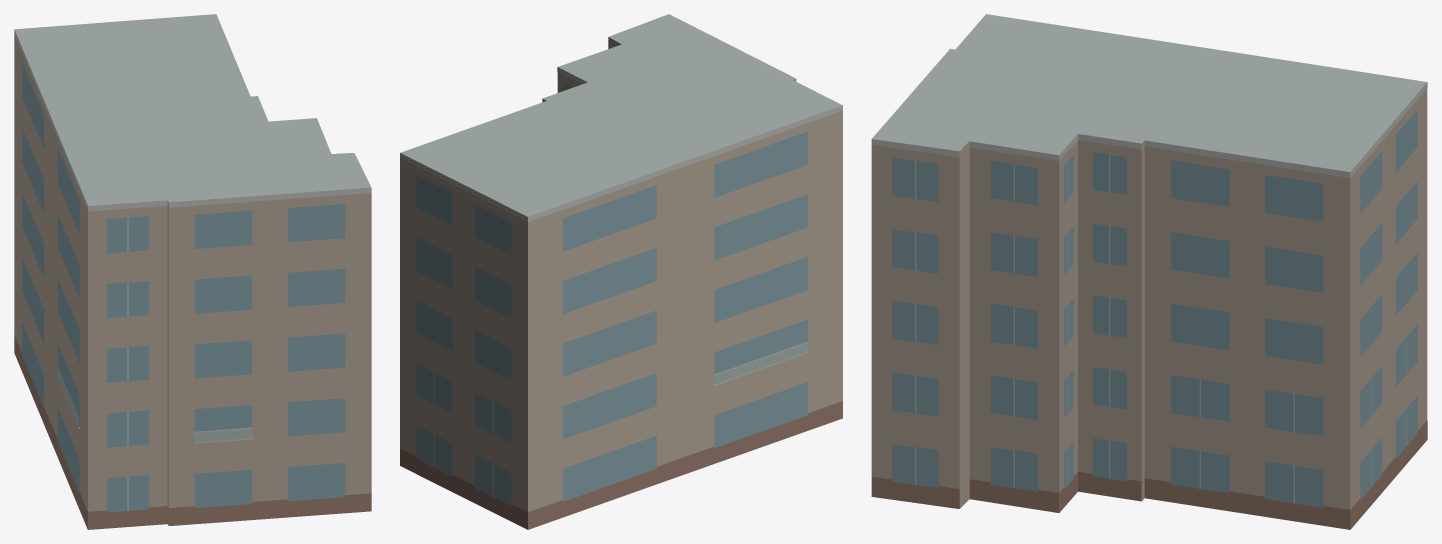
File: survey-upis-32706240.glb
The picture shows the model from 3 angles, left to right: view 1: azimuth 30°, elevation 25°; view 2: azimuth 150°, elevation 25°; view 3: azimuth 270°, elevation 25°; orthographic projection. The views are drawn at different scales.
Visible parts, largest first — view 1: survey-upis-32706240.tmp; view 2: survey-upis-32706240.tmp; view 3: survey-upis-32706240.tmp.
Boxes of the visible parts, x1,y1,x2,y2 form: survey-upis-32706240.tmp: [14, 14, 371, 529]; survey-upis-32706240.tmp: [400, 14, 842, 529]; survey-upis-32706240.tmp: [871, 14, 1427, 529].
Bounding box in the file's own units: 13.8 × 14.55 × 20.5.
